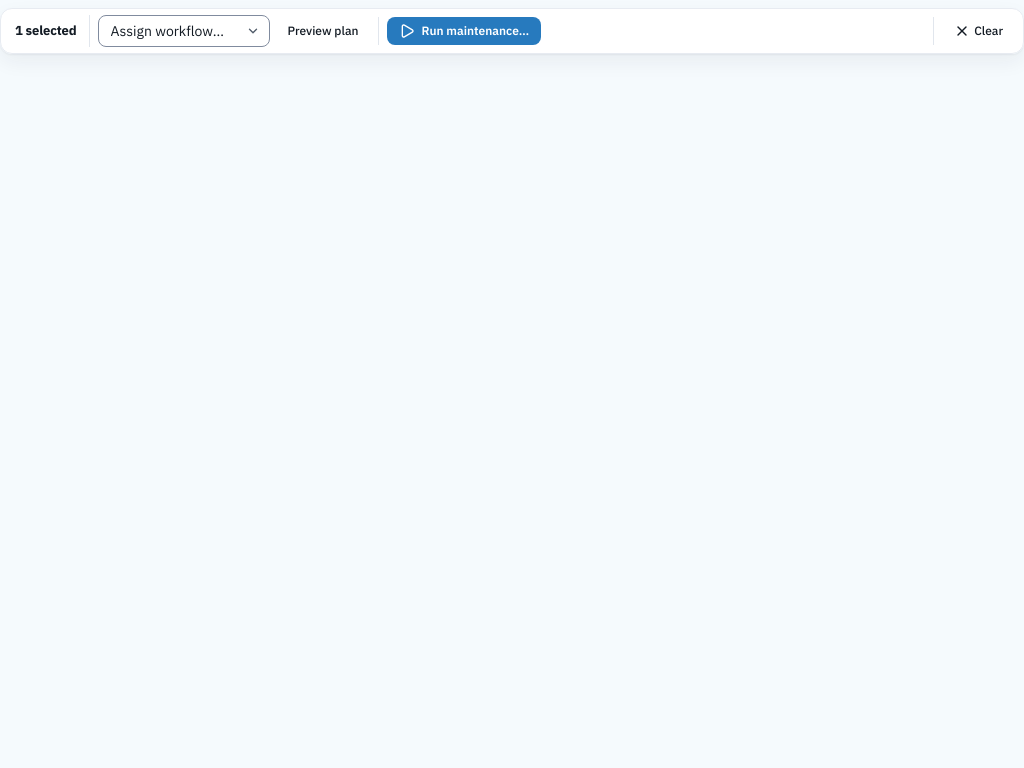
BulkAssignBar › assigns a workflow straight from the bar and pre-fills it for the next run
Select "trino-standard · Default local Trino maintenance profile" in the dropdown named "Assign preset". click: (184, 31)
box: left=98, top=15, right=270, bottom=47
Click the button "Run maintenance…". click: (464, 31)
box: left=388, top=17, right=541, bottom=45
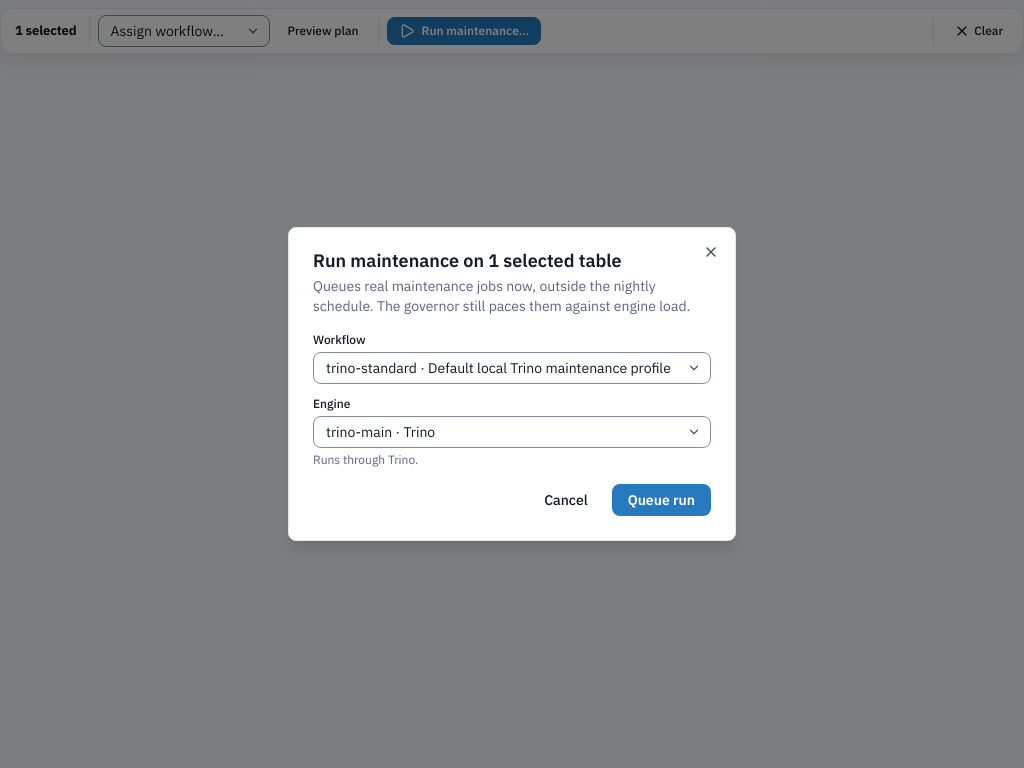
Expected: the dropdown named "Run workflow" shows "trino-standard · Default local Trino maintenance profile", left=313, top=352, right=711, bottom=384
